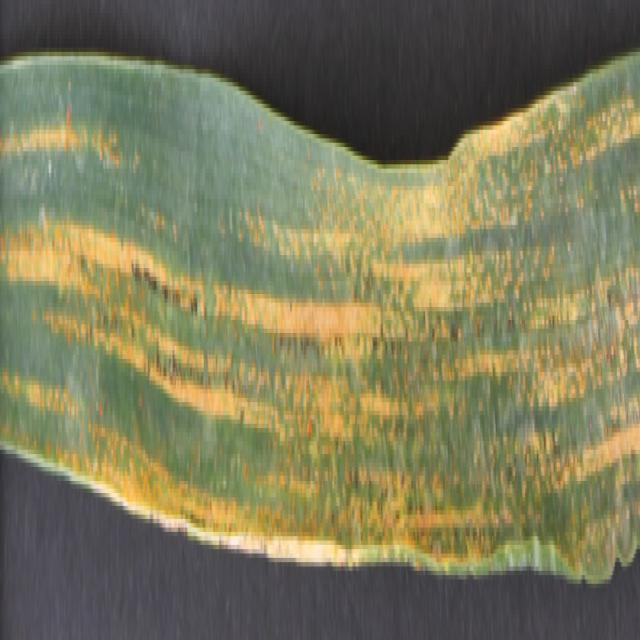leaf rust: (3, 112, 640, 554)
